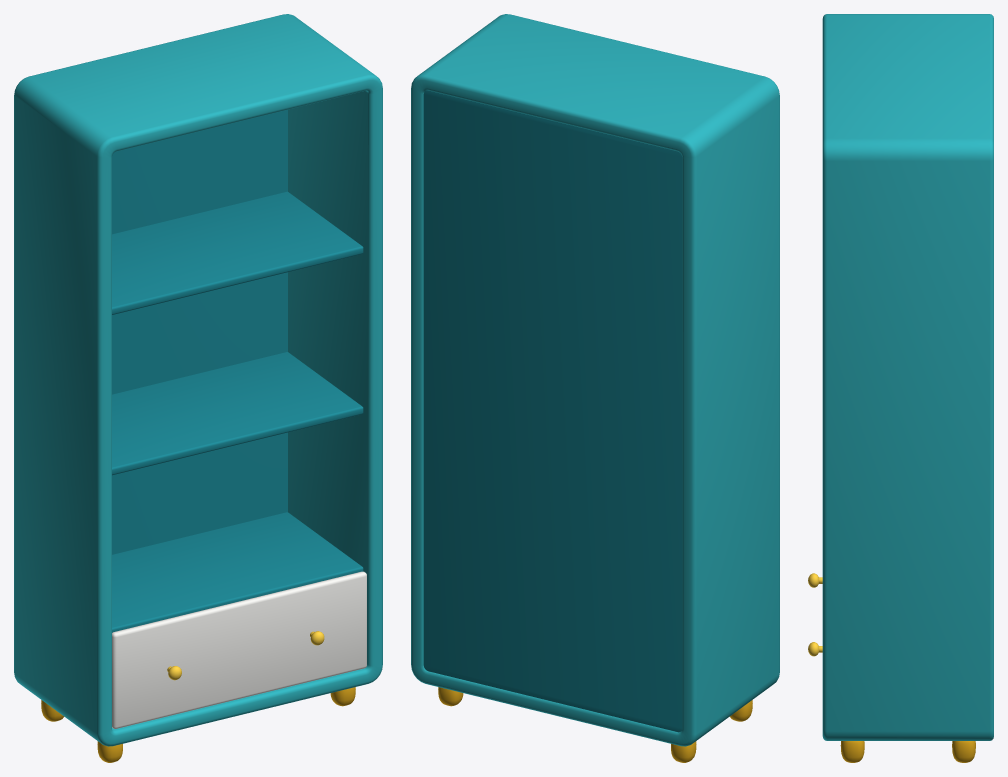
File: armario_estante_gaveta_turquesa.glb
3 renders of one model, left to right at view 1: azimuth 30°, elevation 25°; view 2: azimuth 150°, elevation 25°; view 3: azimuth 270°, elevation 25°, orthographic.
Parts seen in each view (by area): view 1: armario_estante_gaveta_turquesa, gaveta_1; view 2: armario_estante_gaveta_turquesa; view 3: armario_estante_gaveta_turquesa.
Boxes of the visible parts, x1,y1,x2,y2 form: armario_estante_gaveta_turquesa: [14, 14, 382, 762]; gaveta_1: [112, 571, 366, 728]; armario_estante_gaveta_turquesa: [411, 14, 779, 762]; armario_estante_gaveta_turquesa: [822, 14, 993, 762].
Size of the model in its own units: 0.76 by 1.62 by 0.4346.
Materials: 1 (1 with a texture image).
